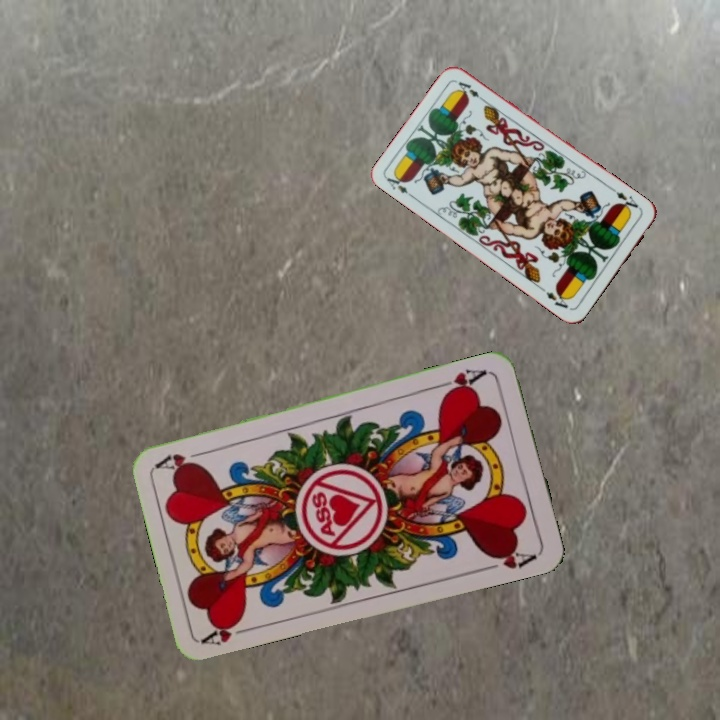EA: (383, 169, 418, 202), (608, 184, 643, 215)
HA: (199, 613, 258, 648), (435, 365, 493, 398)
